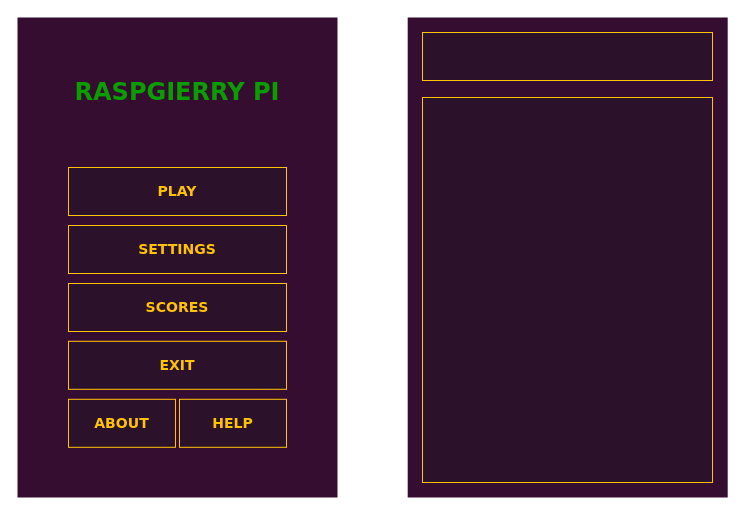
This 745x514 diagram has some shape labels left out. Each missing label, with the centre of its shape:
"GAME WINDOW" goes at point (567, 289).
"HEALTH SCORE" goes at point (567, 56).
